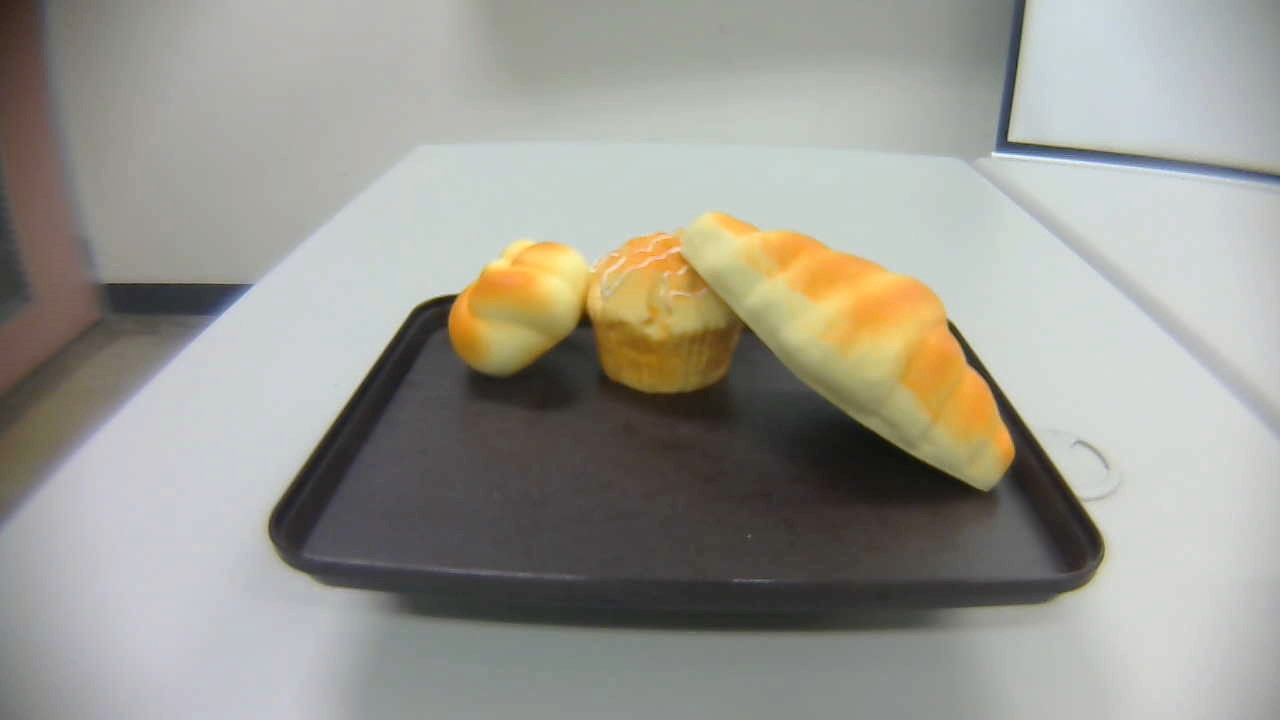croissant: (682, 210, 1017, 495)
cupcake: (587, 233, 748, 391)
twist bread: (448, 239, 588, 377)
